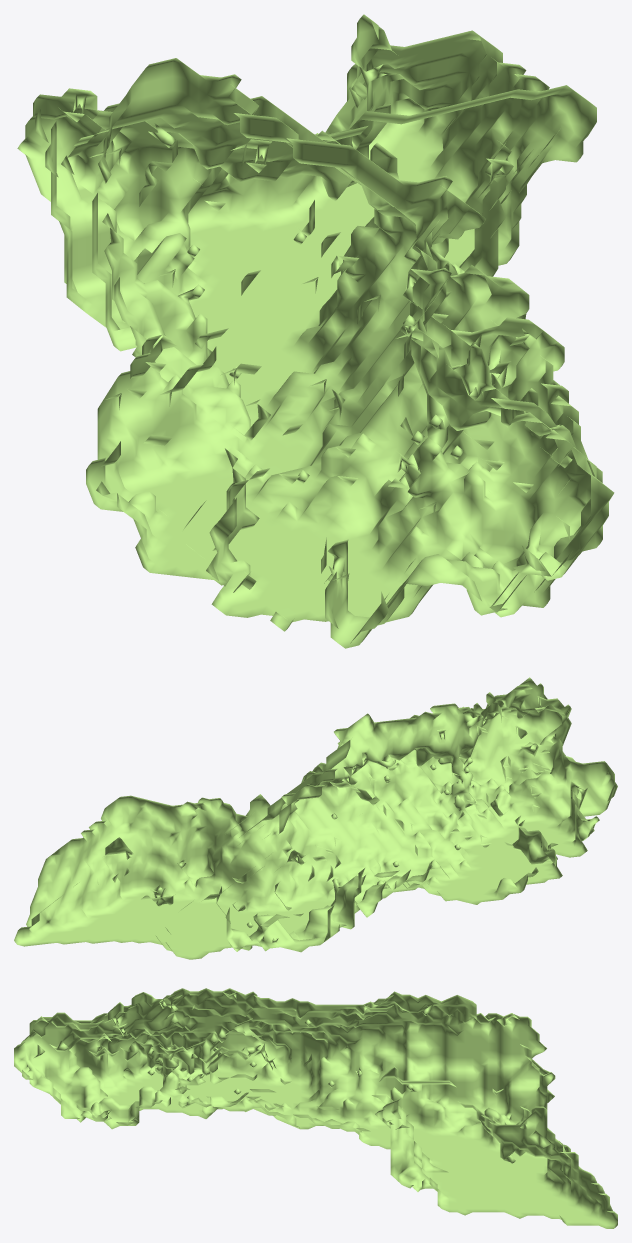
The model's file is osteocyte_13.glb.
3 views of the same model, one above another, from view 1: azimuth 30°, elevation 25°; view 2: azimuth 150°, elevation 25°; view 3: azimuth 270°, elevation 25° (orthographic). The views are drawn at different scales.
Parts seen in each view (by area): view 1: osteocyte_13; view 2: osteocyte_13; view 3: osteocyte_13.
Boxes of the visible parts, <box> form: osteocyte_13: <box>17,14,614,648</box>; osteocyte_13: <box>14,677,617,959</box>; osteocyte_13: <box>14,988,617,1228</box>.
Bounding box in the file's own units: 22.35 × 8.05 × 34.43.
